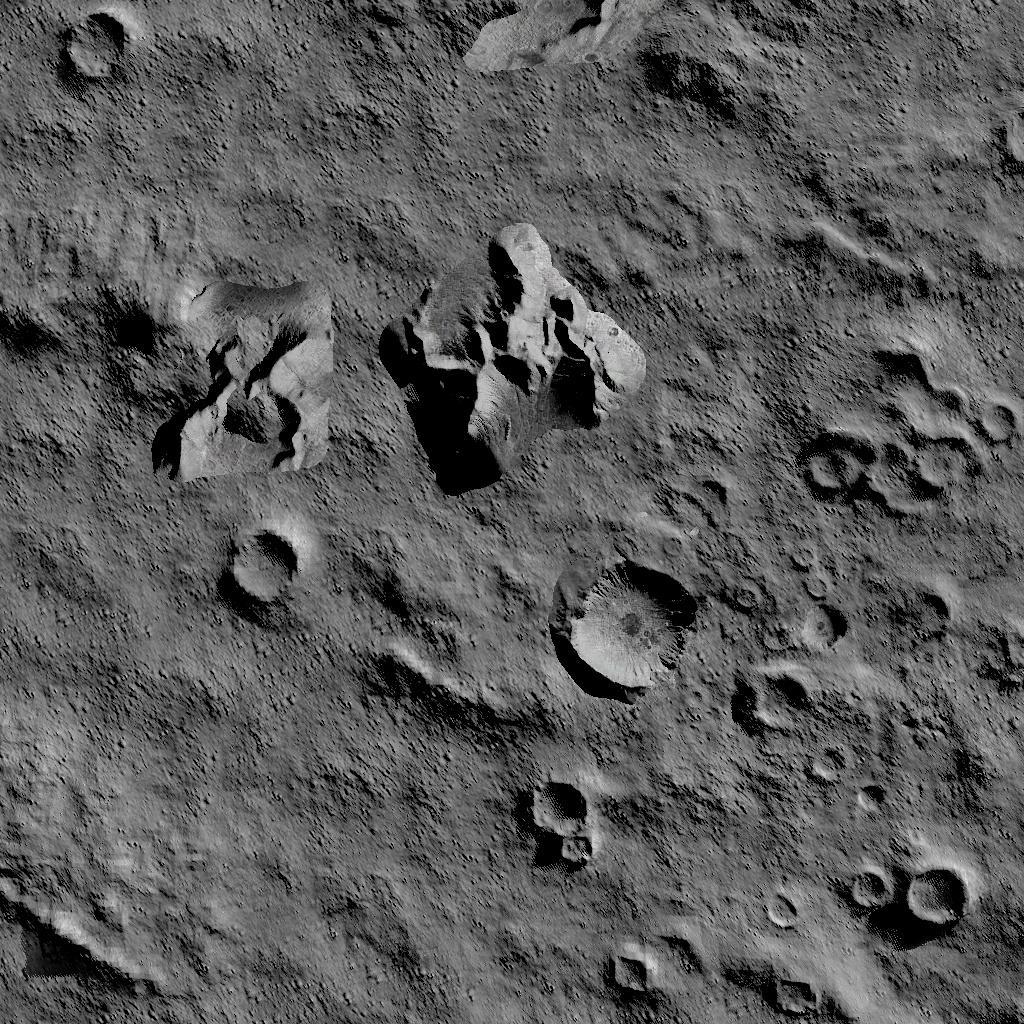Boulders: (0, 212, 331, 480), (384, 222, 646, 496), (341, 0, 813, 130), (0, 878, 178, 998), (368, 640, 550, 745)
Crater: (798, 345, 1022, 513), (561, 558, 698, 698), (836, 858, 968, 930), (518, 772, 596, 872), (218, 528, 308, 610), (736, 658, 820, 740), (63, 12, 133, 90), (771, 970, 823, 1020), (606, 950, 658, 998)
Plan surface: (3, 490, 208, 865), (221, 758, 508, 1024), (150, 0, 330, 200)
